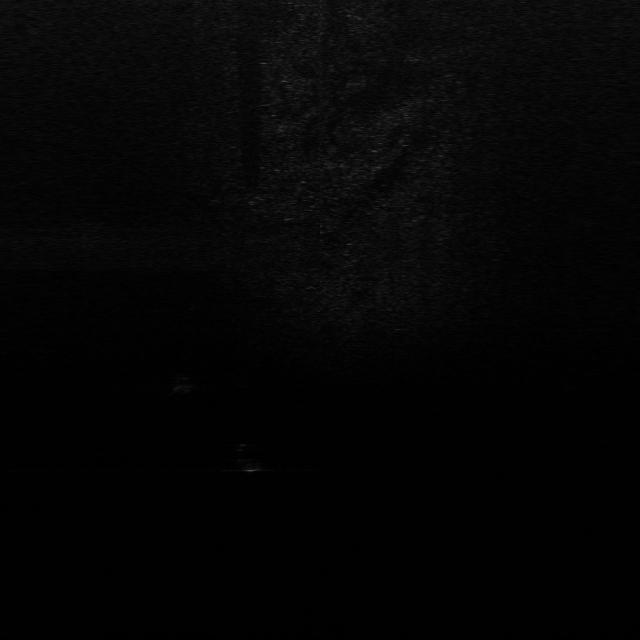circle cage: (166, 372, 202, 398)
tyre: (219, 439, 273, 476)
